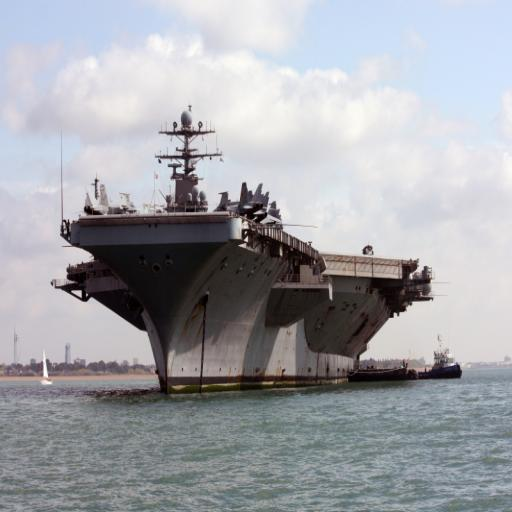Portanaves: (56, 94, 438, 402)
